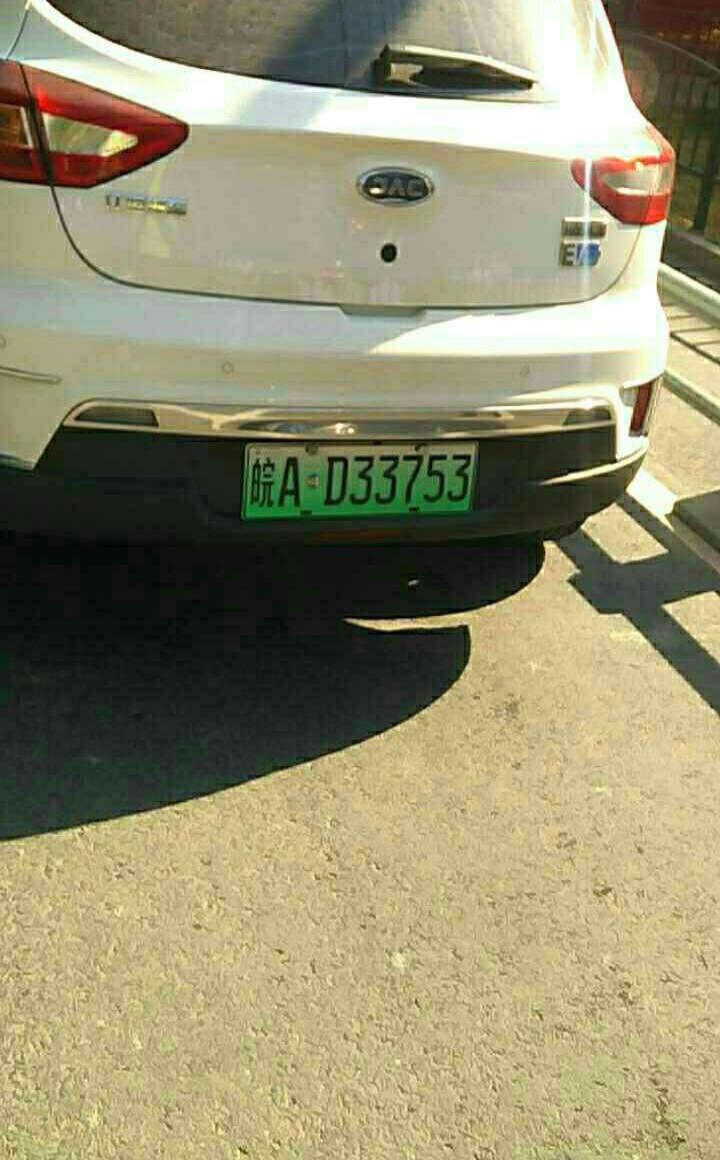car_id: (242, 444, 479, 514)
